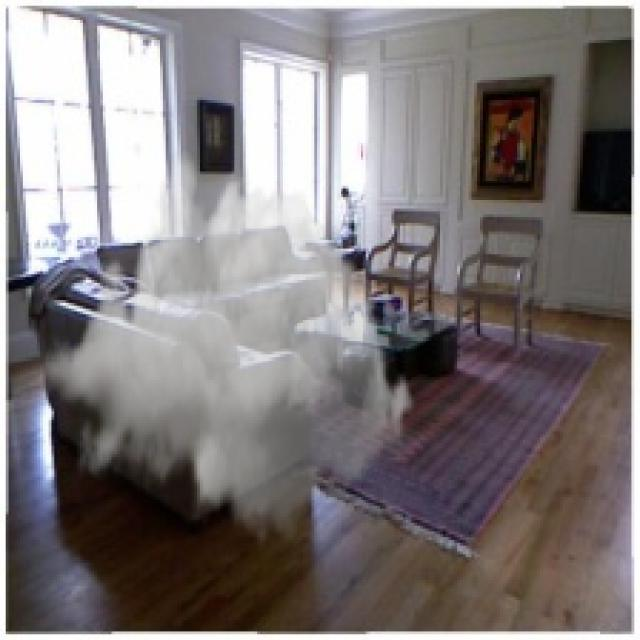smoke: (40, 146, 417, 551)
